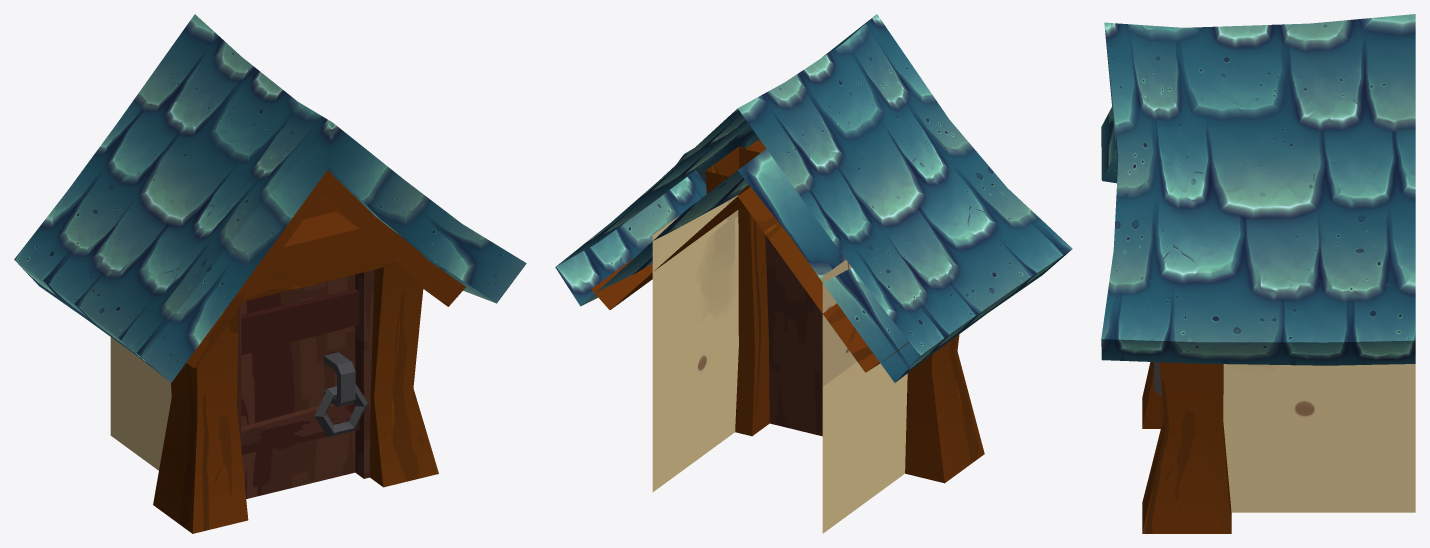
File: SM_BLD_door_v01_01.fbx
3 views of the same model, side by side, from view 1: azimuth 30°, elevation 25°; view 2: azimuth 150°, elevation 25°; view 3: azimuth 270°, elevation 25° (orthographic). The views are drawn at different scales.
Parts seen in each view (by area): view 1: SM_BLD_door_v01_01; view 2: SM_BLD_door_v01_01; view 3: SM_BLD_door_v01_01.
Part boxes in pixels (bbox=[...]): SM_BLD_door_v01_01: bbox=[14, 14, 526, 533]; SM_BLD_door_v01_01: bbox=[555, 14, 1072, 533]; SM_BLD_door_v01_01: bbox=[1101, 14, 1415, 533].
Bounding box in the file's own units: 321 × 319 × 201.
